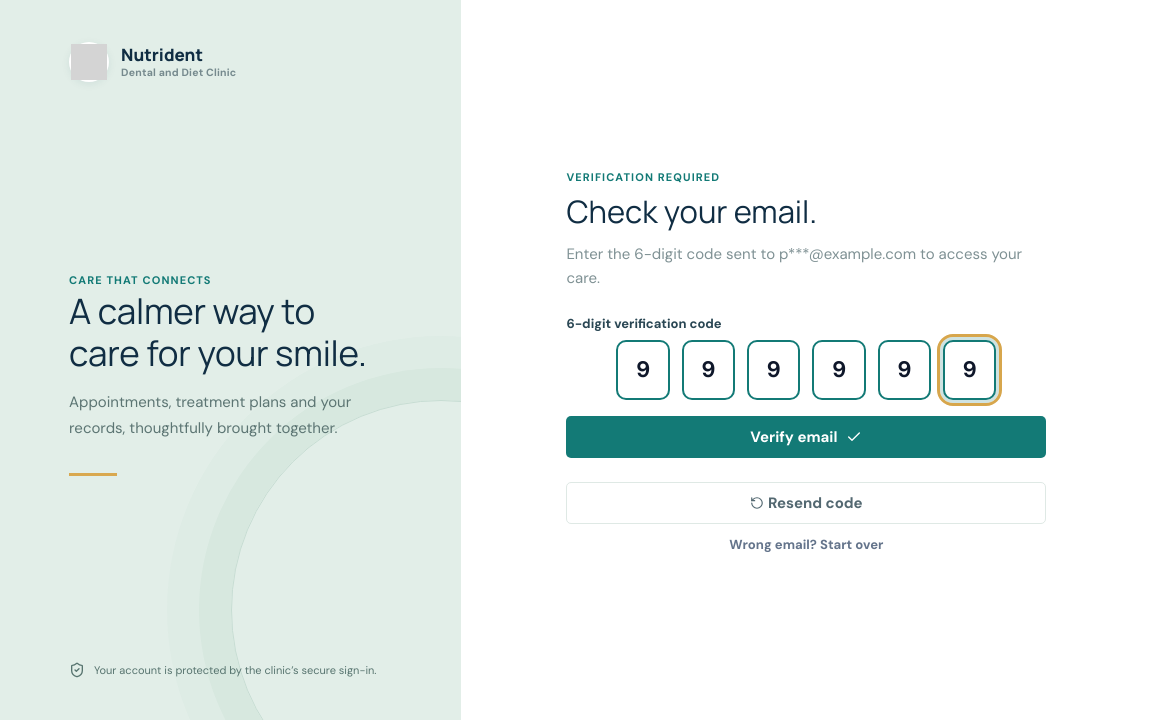
Test case: Mandatory OTP Verification flow › VerifyOtpPage: shows locked timer on HTTP 429 lockout
The width and height of the screenshot is (1152, 720).
Click the button "Verify email" at [806, 437], box [566,416,1046,458]
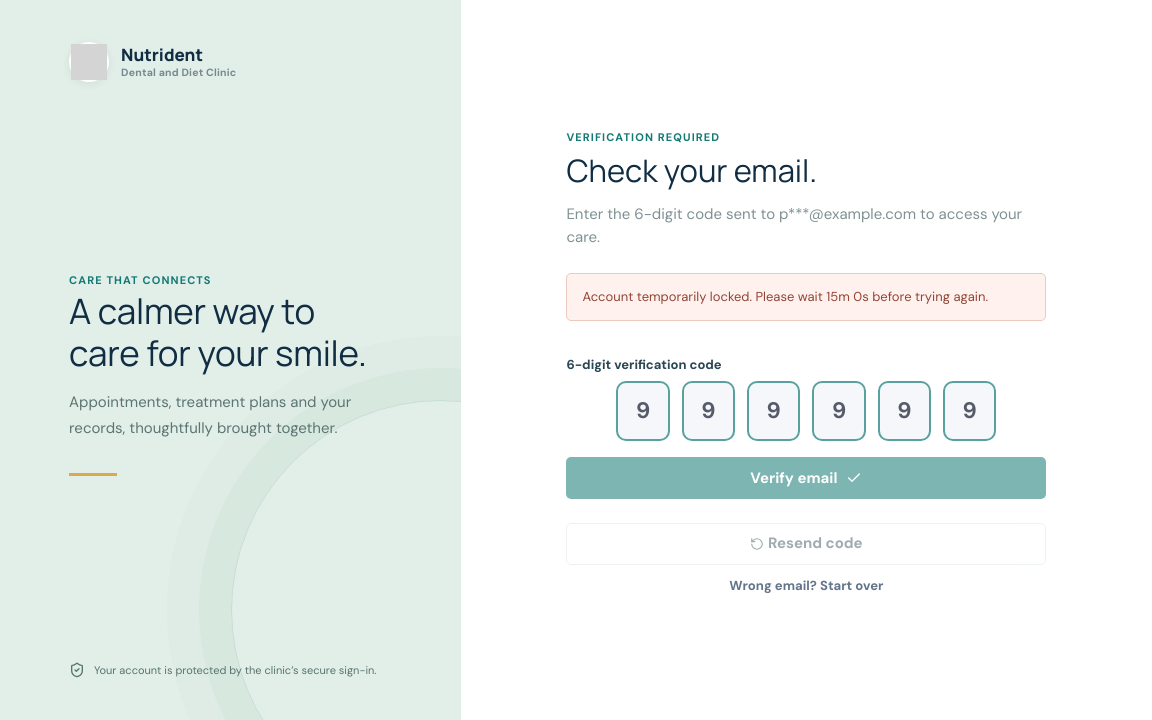
Now the message shows "temporarily locked", box [582,288,826,305]
Now the button "Verify email" is disabled, box [566,457,1046,499]
